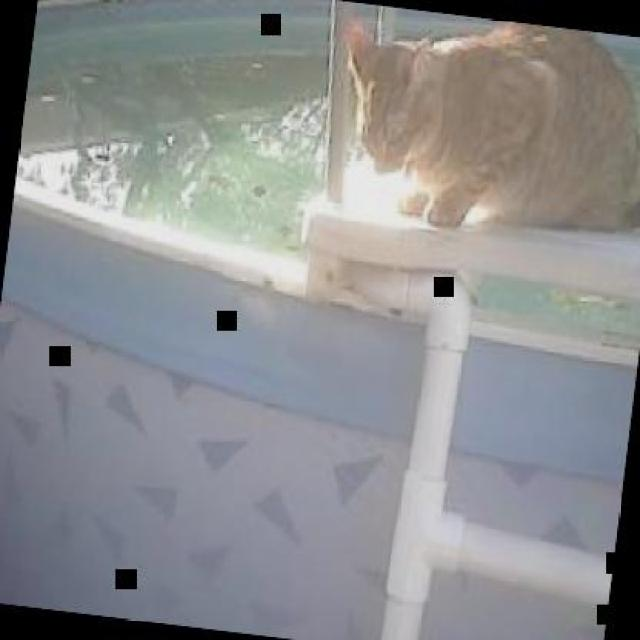cat: (323, 2, 639, 258)
